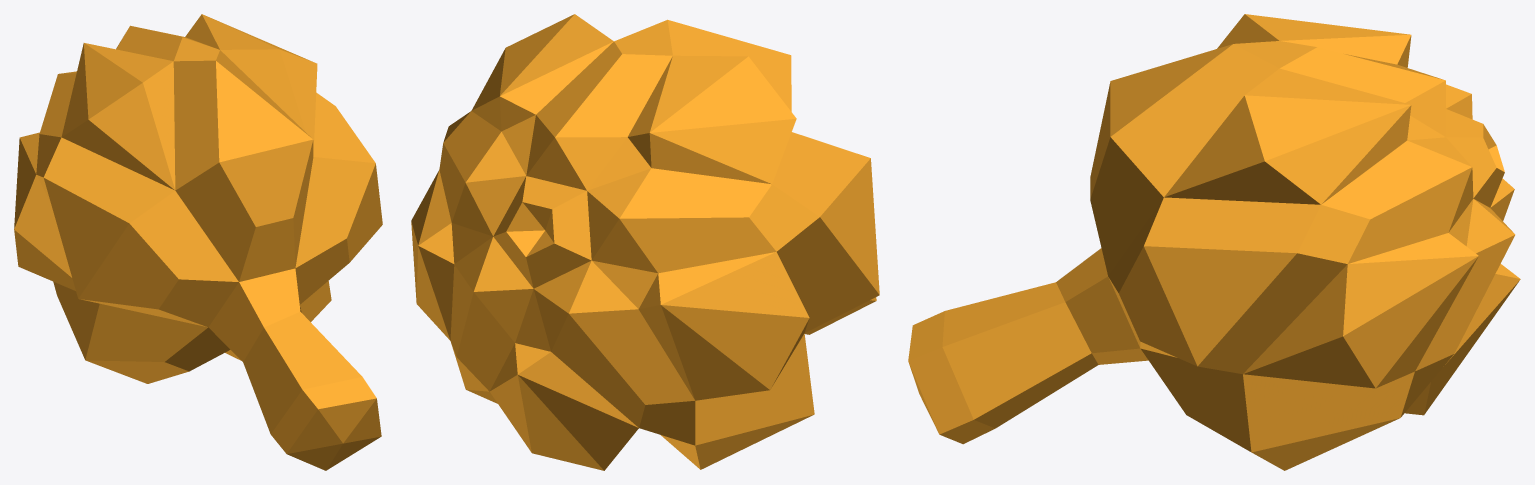
Rendered from SM_Artichoke.fbx.
3 views of the same model, side by side, from view 1: azimuth 30°, elevation 25°; view 2: azimuth 150°, elevation 25°; view 3: azimuth 270°, elevation 25° (orthographic). The views are drawn at different scales.
Parts seen in each view (by area): view 1: artichoke; view 2: artichoke; view 3: artichoke.
Boxes of the visible parts, x1,y1,x2,y2 form: artichoke: (14, 14, 382, 470); artichoke: (411, 14, 879, 470); artichoke: (908, 14, 1520, 470).
Size of the model in its own units: 0.2431 by 0.2437 by 0.3375.
